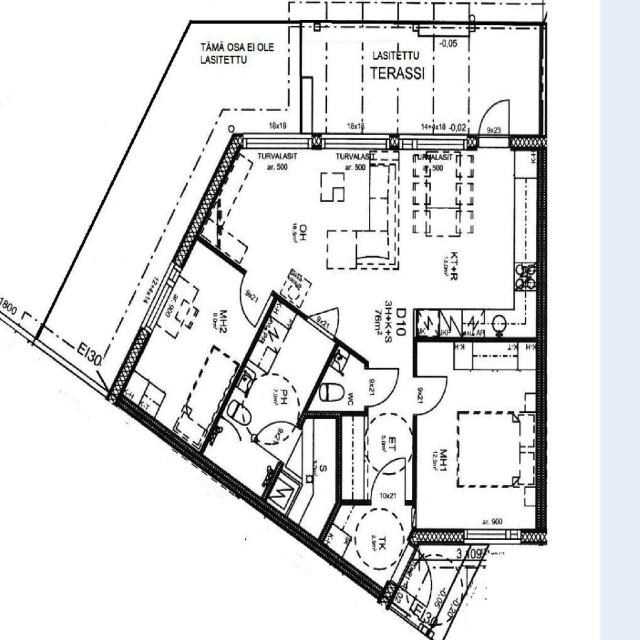door: (388, 542, 446, 608), (252, 405, 300, 463), (228, 270, 272, 326), (306, 284, 349, 340), (478, 95, 509, 148), (371, 456, 405, 504), (412, 376, 446, 414), (365, 369, 397, 405)
